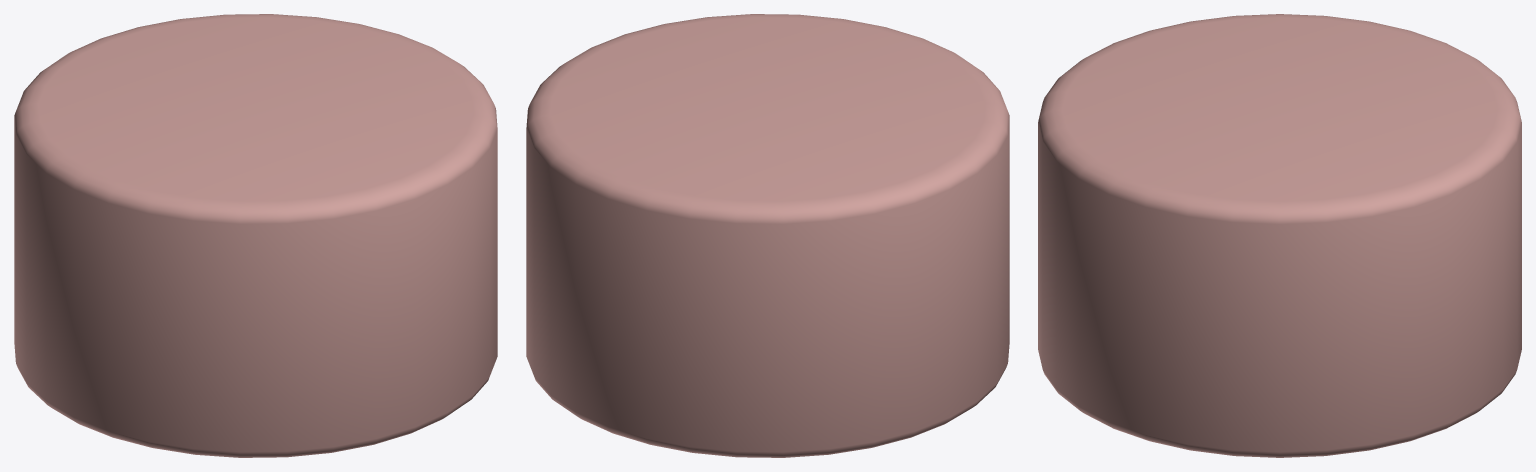
File: outerfrosting_10.glb
3 views of the same model, side by side, from view 1: azimuth 30°, elevation 25°; view 2: azimuth 150°, elevation 25°; view 3: azimuth 270°, elevation 25° (orthographic).
Parts seen in each view (by area): view 1: 10_OuterFrosting; view 2: 10_OuterFrosting; view 3: 10_OuterFrosting.
Part boxes in pixels (x1,y1,x2,y2): 10_OuterFrosting: (14,14,497,457); 10_OuterFrosting: (526,14,1009,457); 10_OuterFrosting: (1038,14,1521,457).
Bounding box in the file's own units: 0.26 × 0.15 × 0.26.
